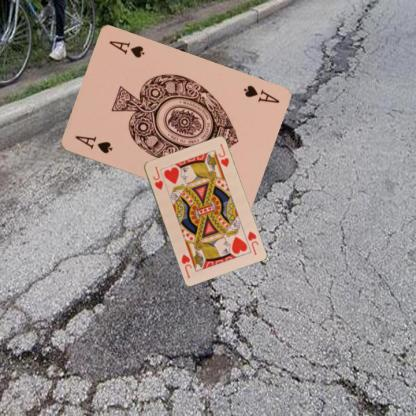As: (72, 133, 113, 155), (240, 82, 281, 104)
Jh: (245, 228, 259, 256), (150, 164, 164, 190)
